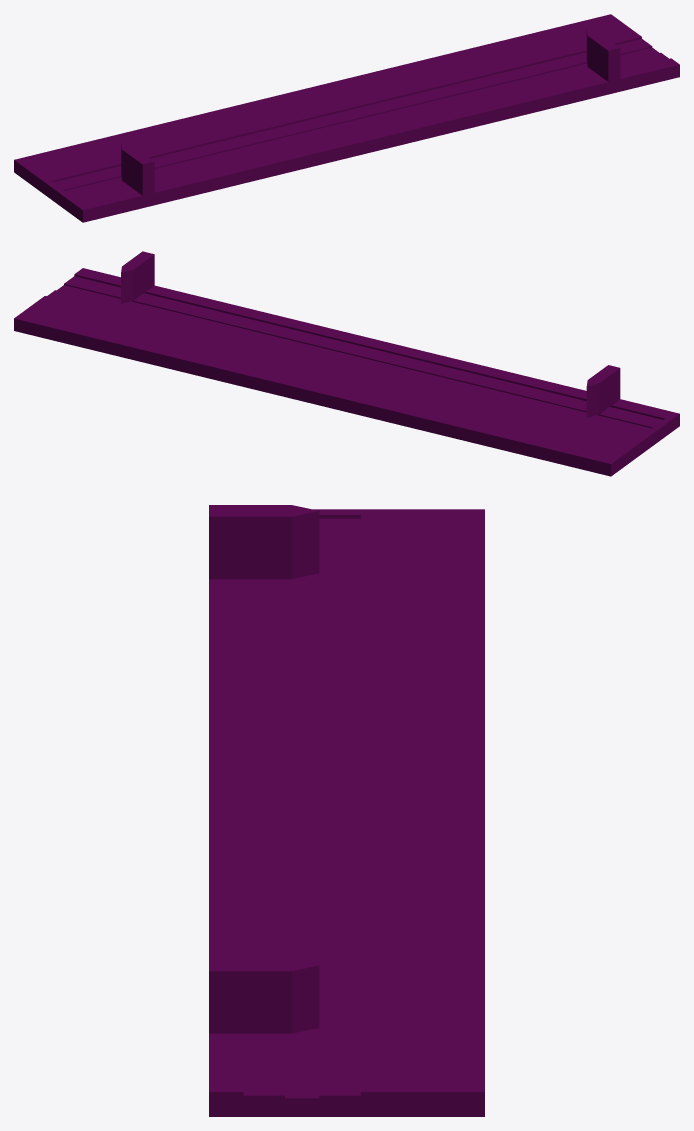
Rendered from GAGE5.glb.
3 views of the same model, one above another, from view 1: azimuth 30°, elevation 25°; view 2: azimuth 150°, elevation 25°; view 3: azimuth 270°, elevation 25° (orthographic). The views are drawn at different scales.
Parts seen in each view (by area): view 1: GAGE; view 2: GAGE; view 3: GAGE.
Part boxes in pixels (x1,y1,x2,y2): GAGE: (14,14,679,222); GAGE: (14,251,679,476); GAGE: (209,505,484,1116).
Bounding box in the file's own units: 0.95 × 0.0665 × 0.19.
